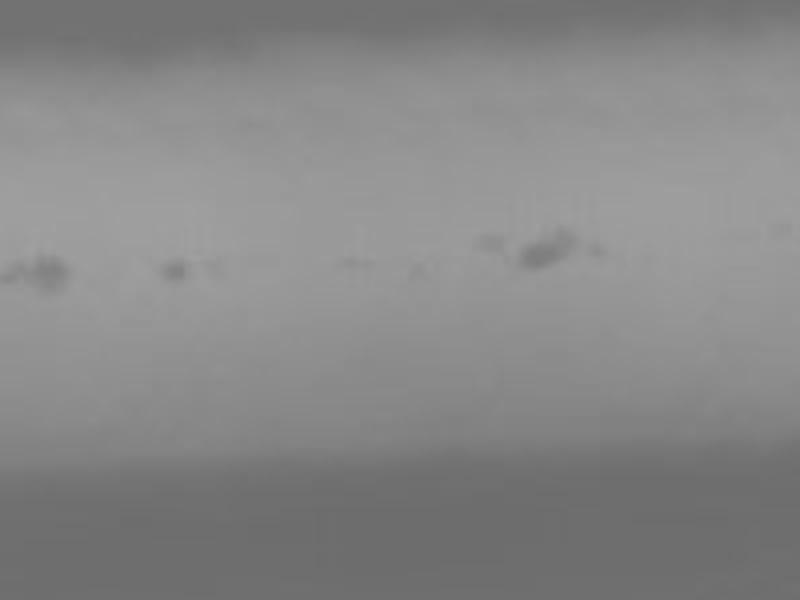defect: (520, 227, 568, 275), (32, 255, 62, 294), (160, 258, 185, 283), (480, 230, 502, 252), (408, 258, 428, 278), (2, 266, 19, 286), (588, 242, 604, 258), (340, 251, 354, 265), (356, 258, 369, 271)
